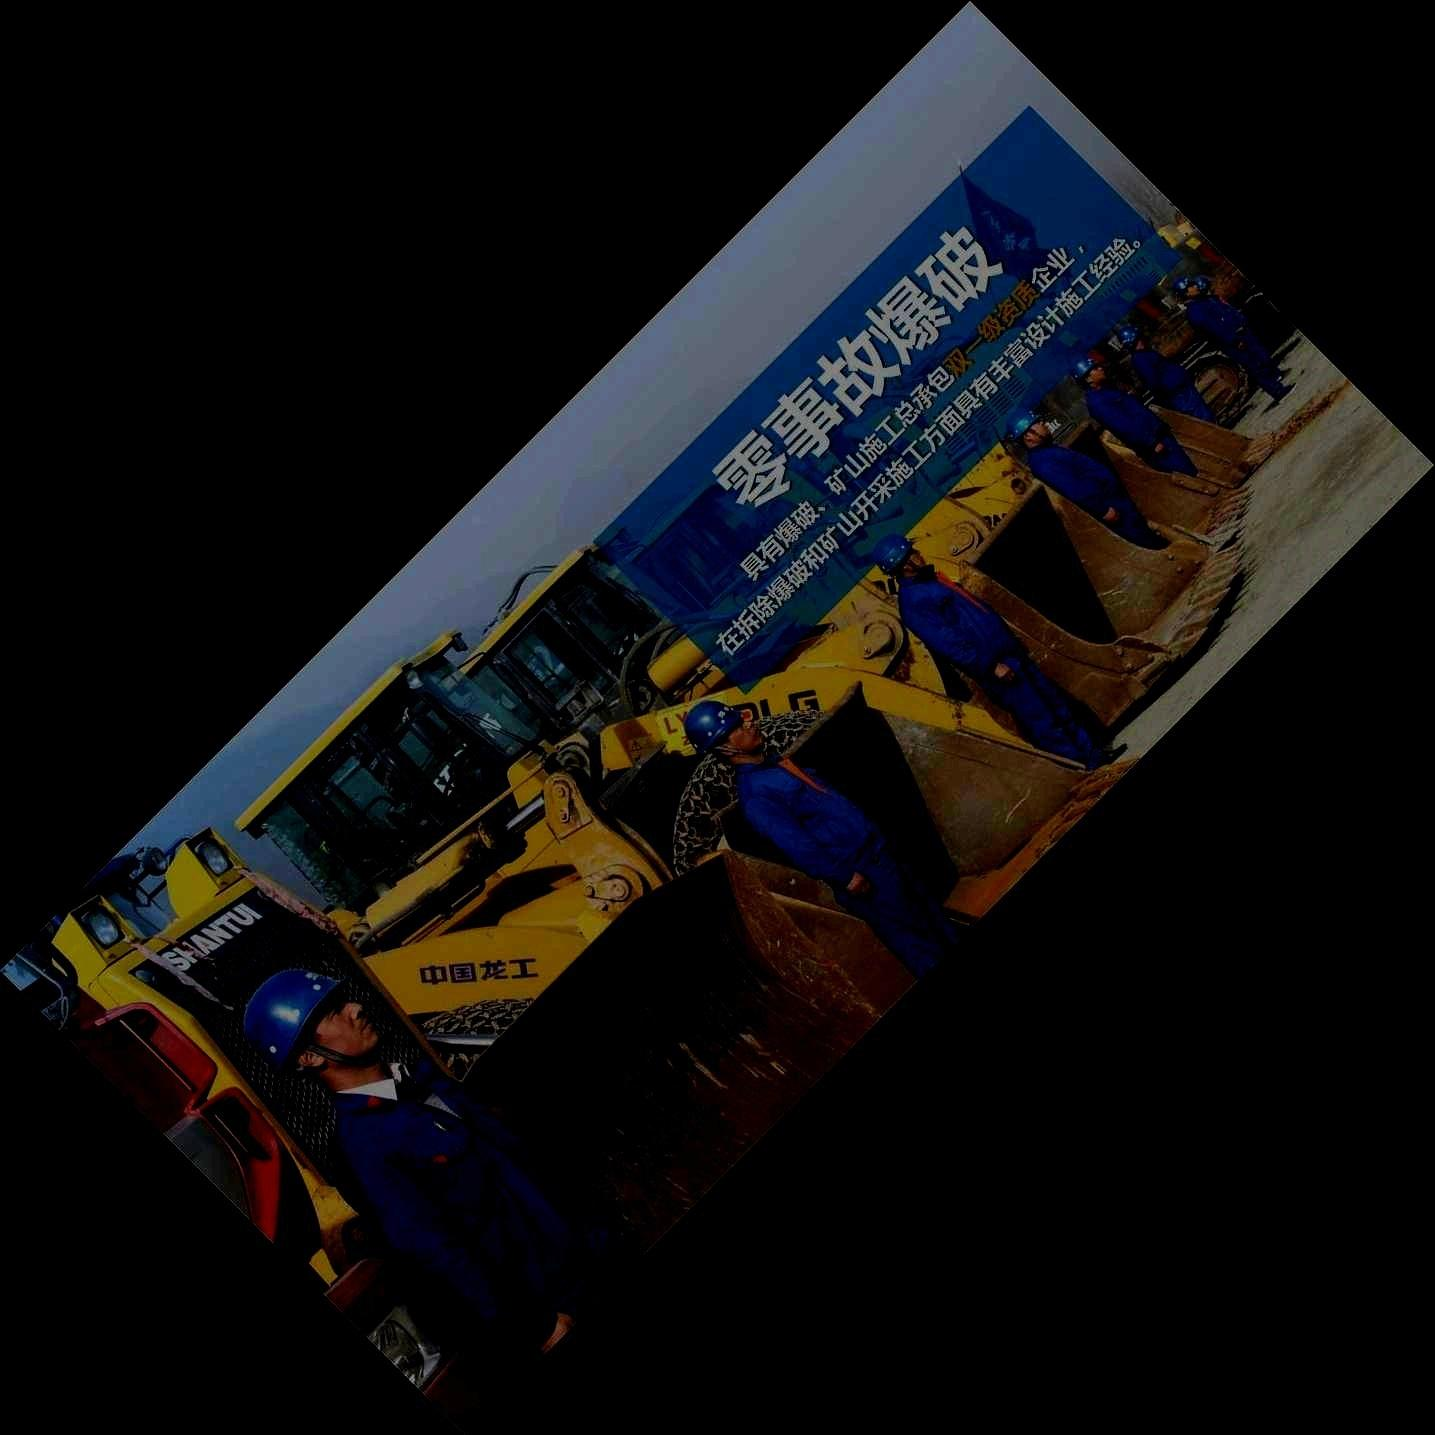helmet: (242, 968, 380, 1075), (685, 700, 763, 756), (871, 534, 926, 577), (1007, 407, 1053, 448), (1074, 357, 1105, 385), (1118, 323, 1147, 351), (1173, 276, 1200, 300)
